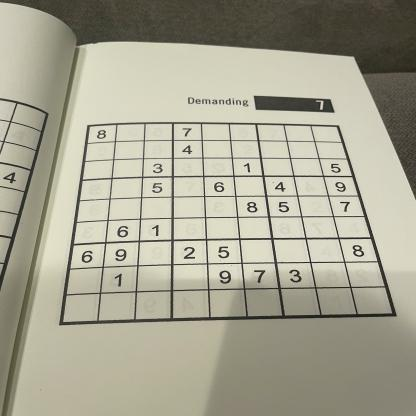sudoku: (54, 116, 401, 334)
